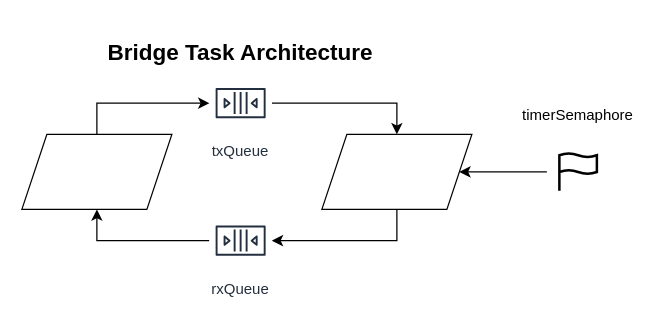
This 655x319 diagram has some shape labels left out. Here are the shapes that lost their labels. From the top down, the centre of each, then its label:
(96,171): 1 bridgeTask 10000
(396,171): 1 clkEventTask 10000
